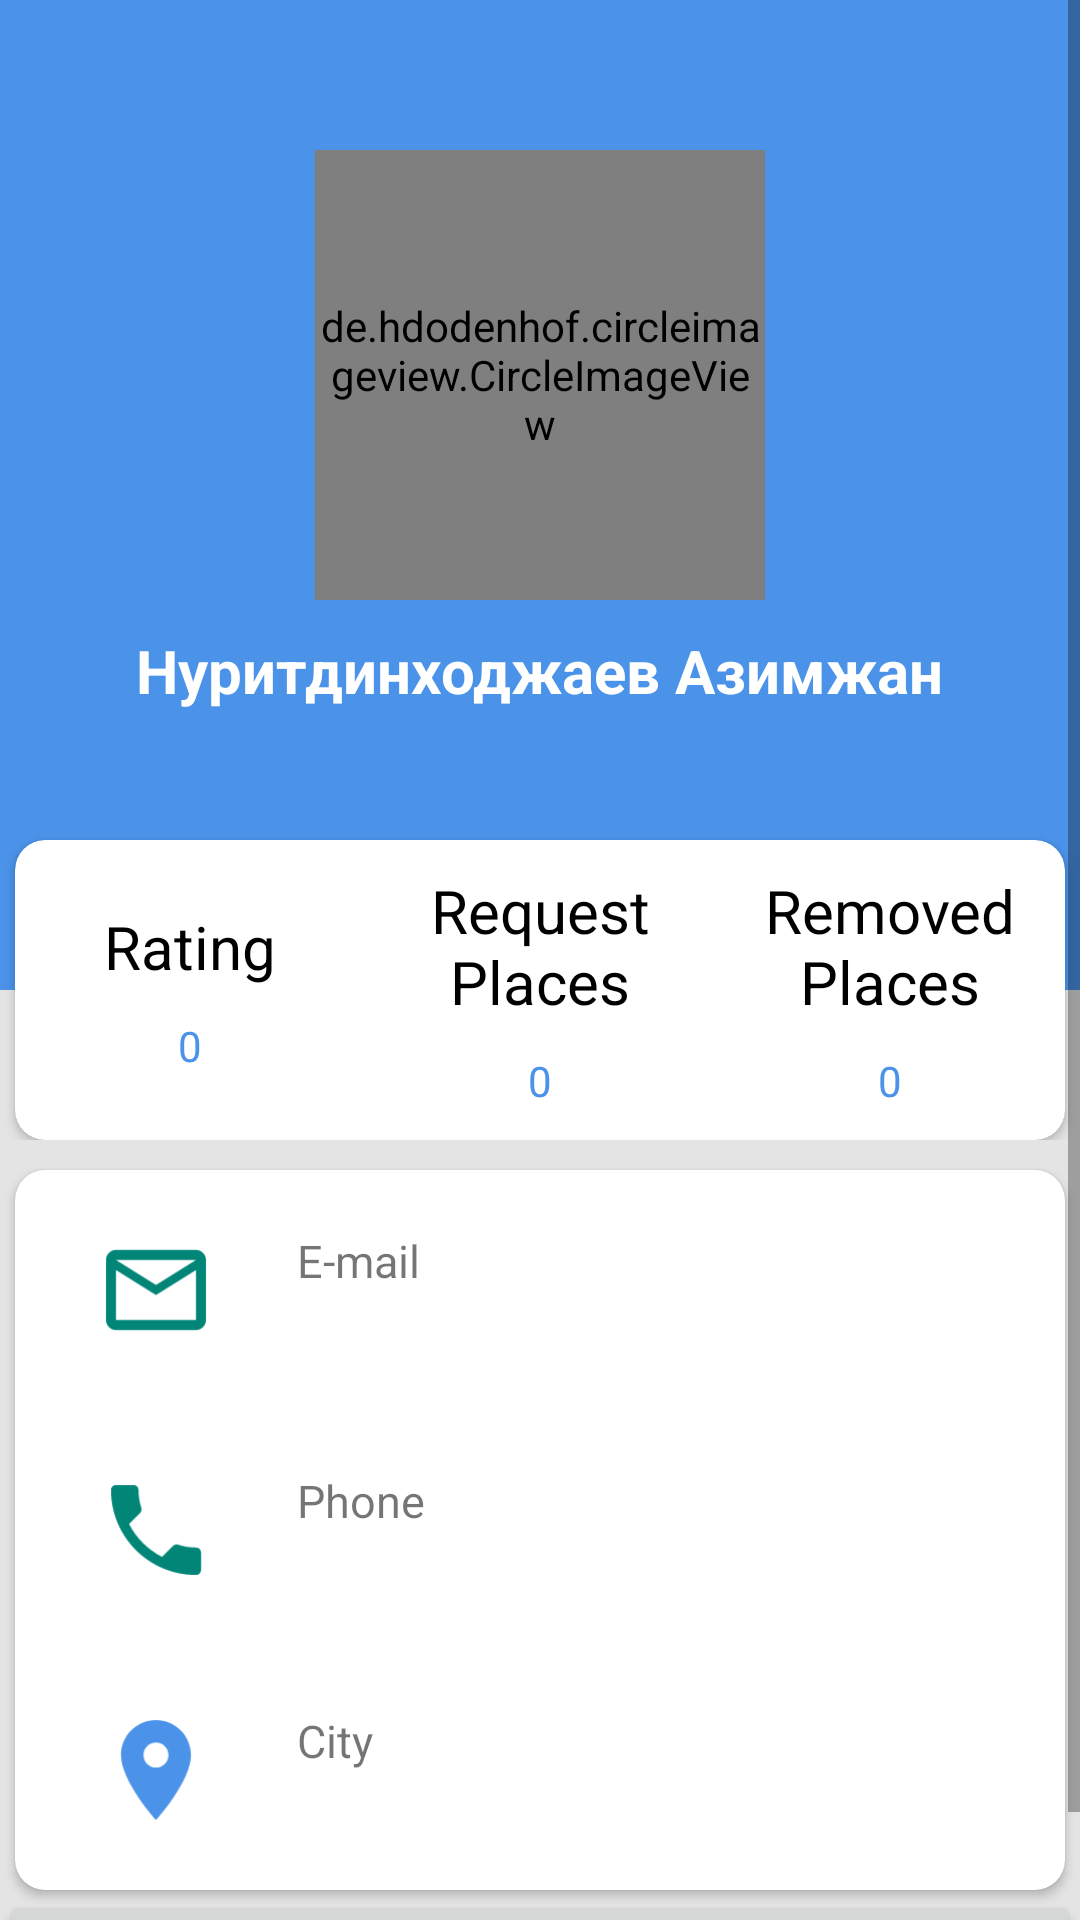

Locate icon controls on the screen. Image size 1080×1920, boxes as (x1, y1, x2, y2).
location on: (120, 1720, 191, 1820)
